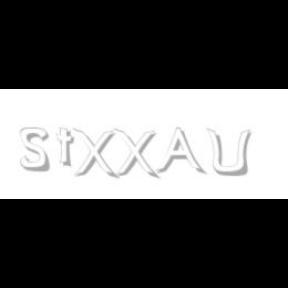A: (155, 128, 203, 176)
S: (20, 128, 50, 172)
U: (206, 128, 250, 178)
X: (72, 128, 116, 180), (113, 128, 157, 180)
t: (57, 128, 79, 168)
